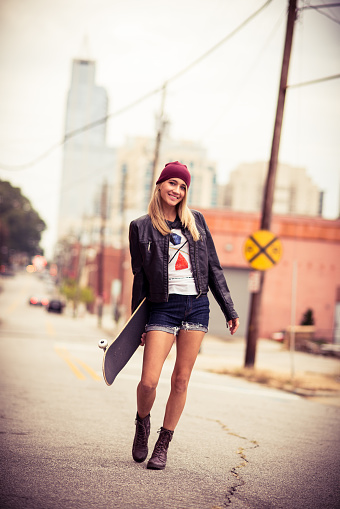em pe: (112, 144, 239, 470)
